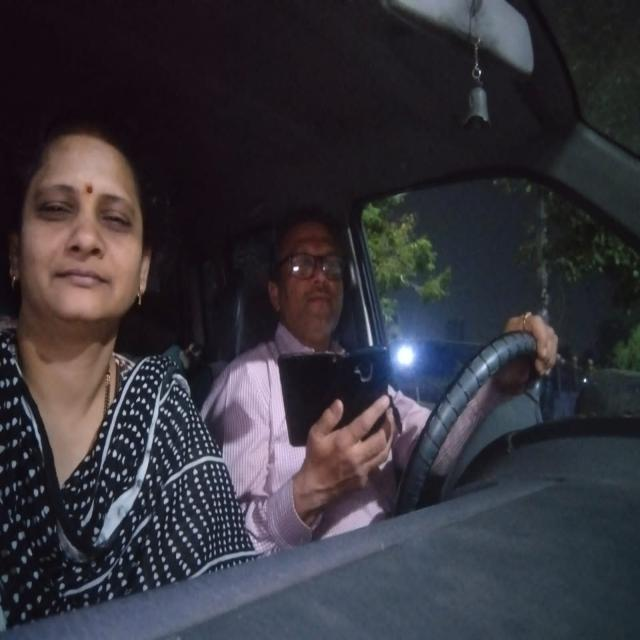mobile: (277, 350, 391, 450)
person: (16, 128, 158, 329), (267, 202, 358, 328)
